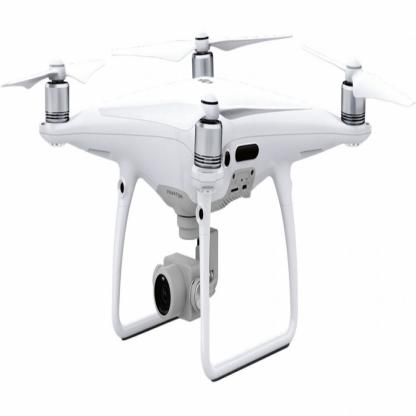drone: (12, 22, 416, 223)
